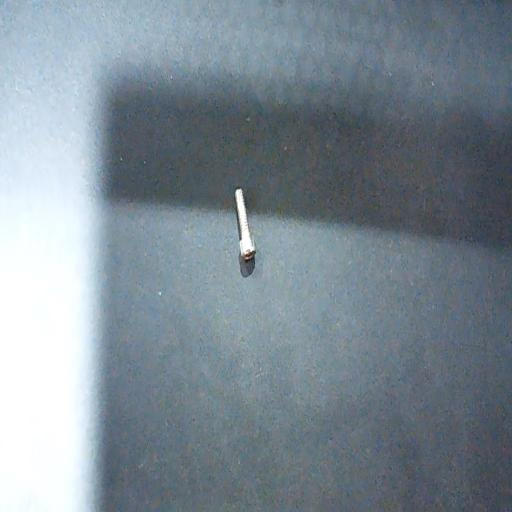screw: (235, 187, 255, 261)
